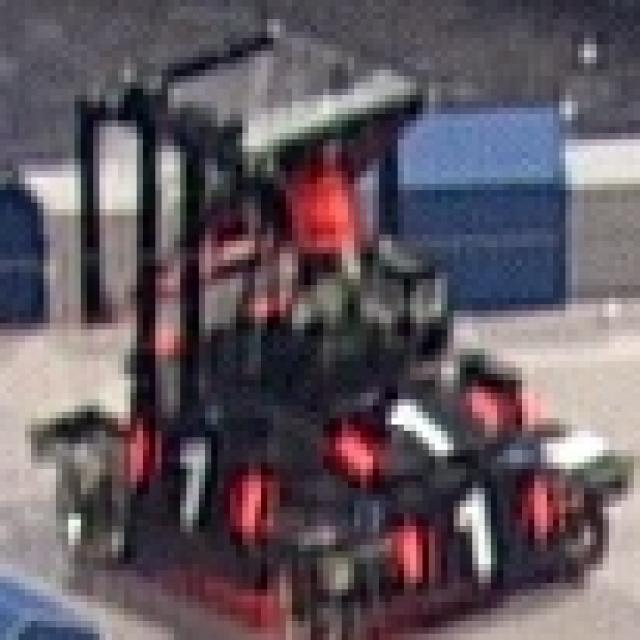R1: (323, 380, 522, 482), (385, 475, 559, 577), (124, 424, 267, 538)
